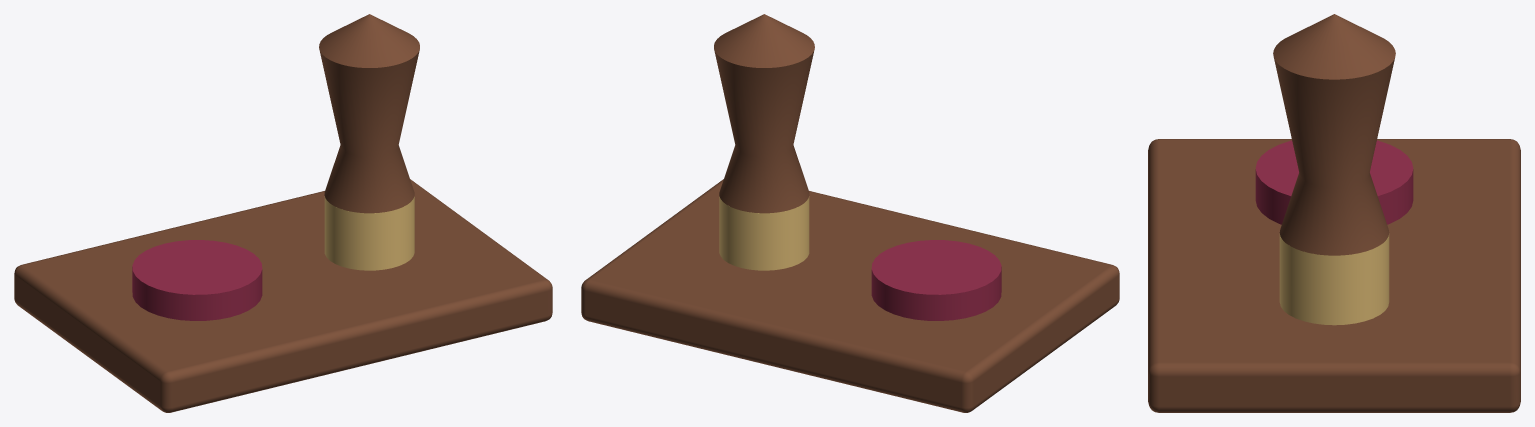
Rendered from royal-court-and-throne-palace-wax-seal-service-0a4b0aef__29402.glb.
3 views of the same model, side by side, from view 1: azimuth 30°, elevation 25°; view 2: azimuth 150°, elevation 25°; view 3: azimuth 270°, elevation 25° (orthographic). The views are drawn at different scales.
Parts seen in each view (by area): view 1: wax-seal-service; view 2: wax-seal-service; view 3: wax-seal-service.
Boxes of the visible parts, x1,y1,x2,y2 form: wax-seal-service: (14,14,552,412); wax-seal-service: (581,14,1119,412); wax-seal-service: (1148,14,1520,412).
Size of the model in its own units: 0.25 by 0.17 by 0.17.
